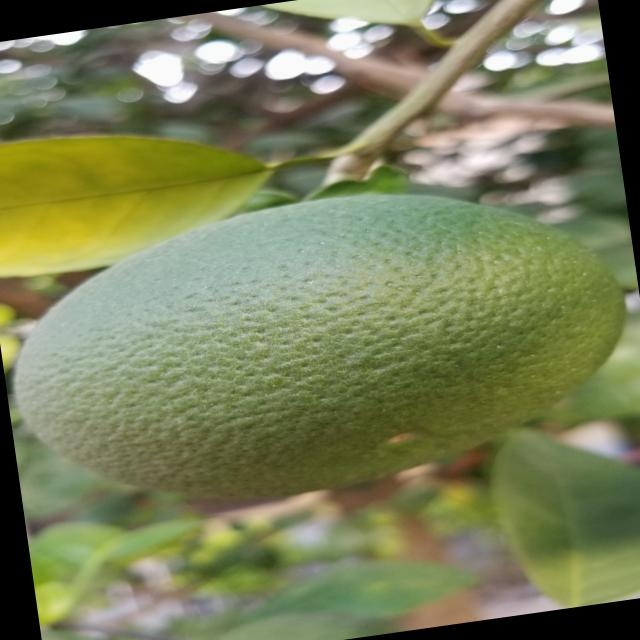agrume: (0, 161, 640, 539)
